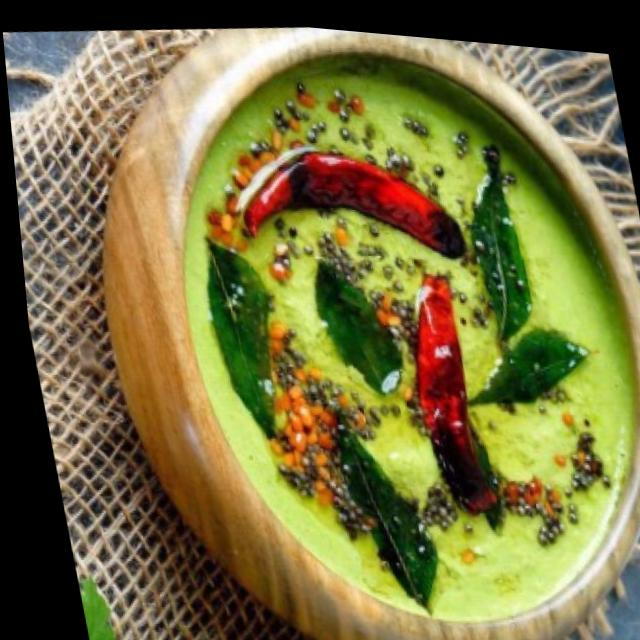GREEN CHUTNEY: (104, 28, 640, 640)
